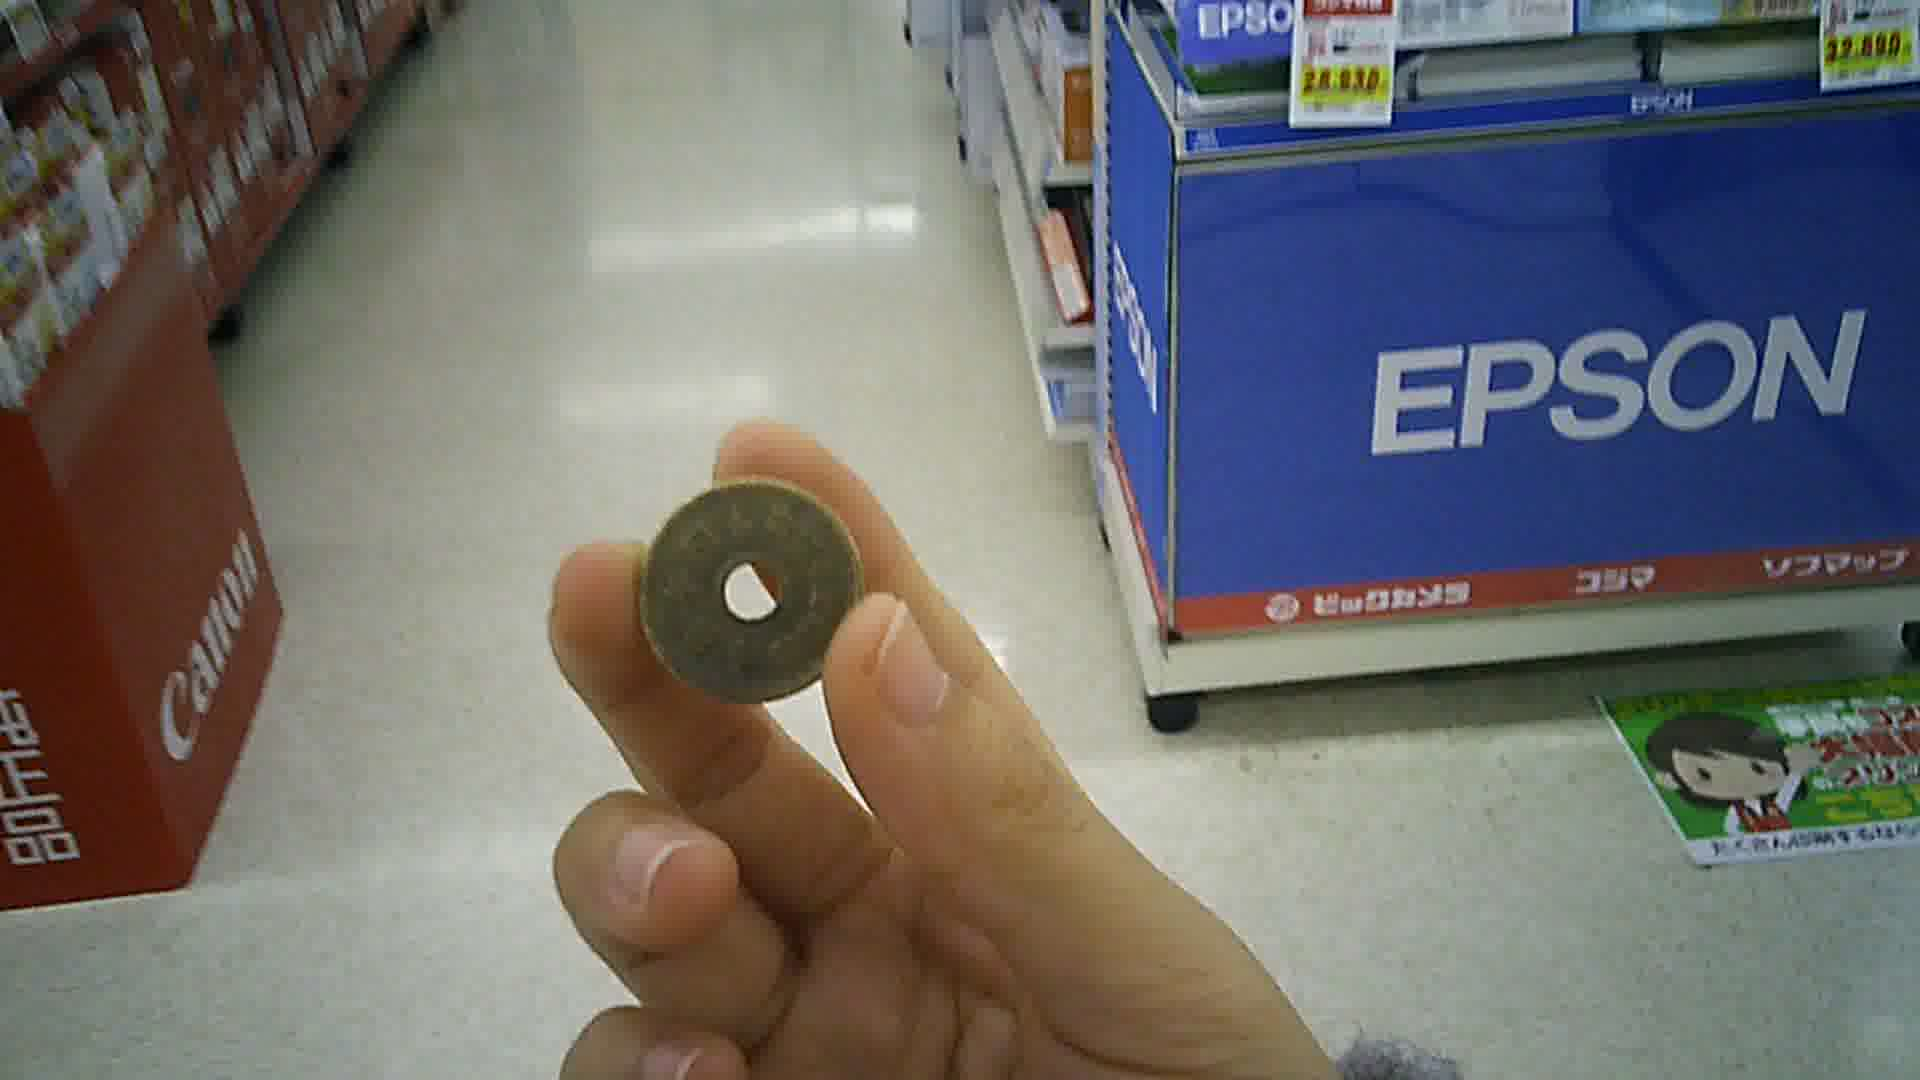5 Yen: (644, 477, 872, 698)
